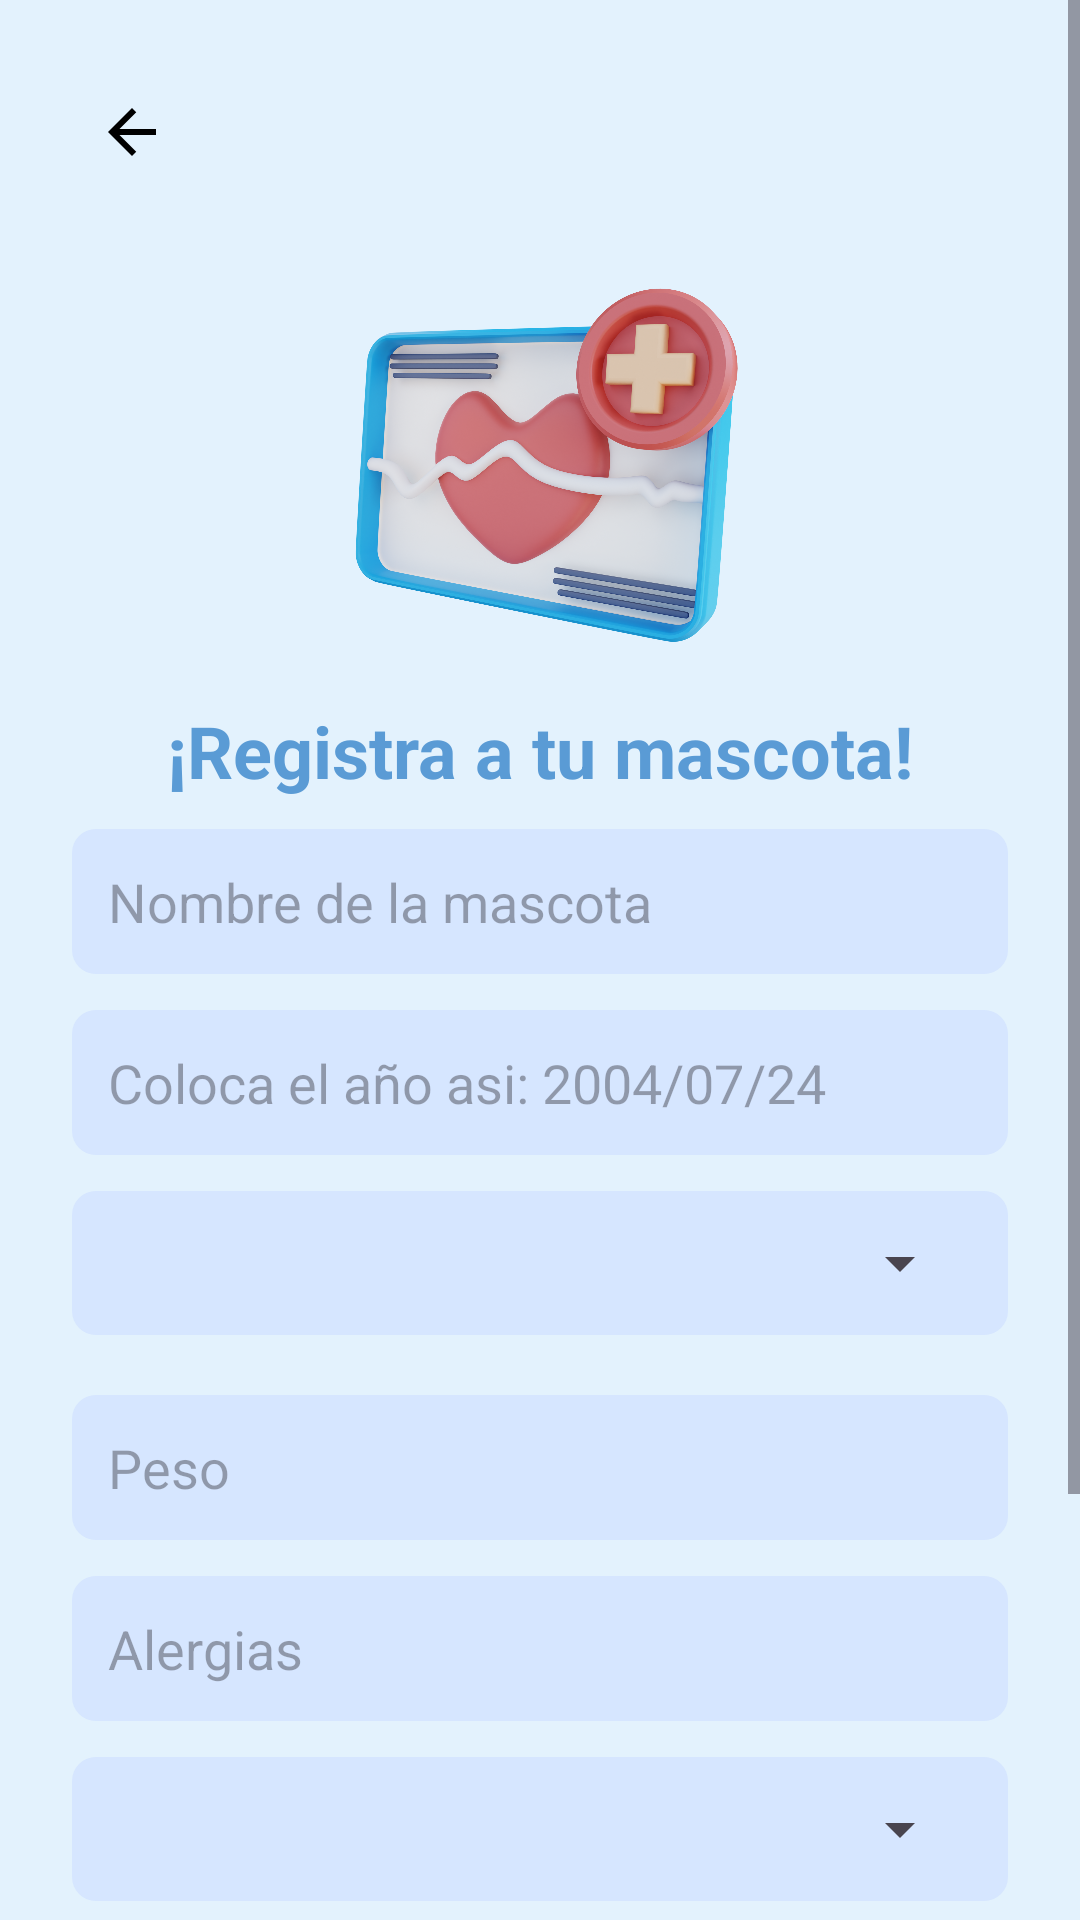

Icons on this 1080*1920 Android screen, each with its box as Rect(x1, y1, x2, y2):
Boton regresar: Rect(108, 108, 156, 156)
